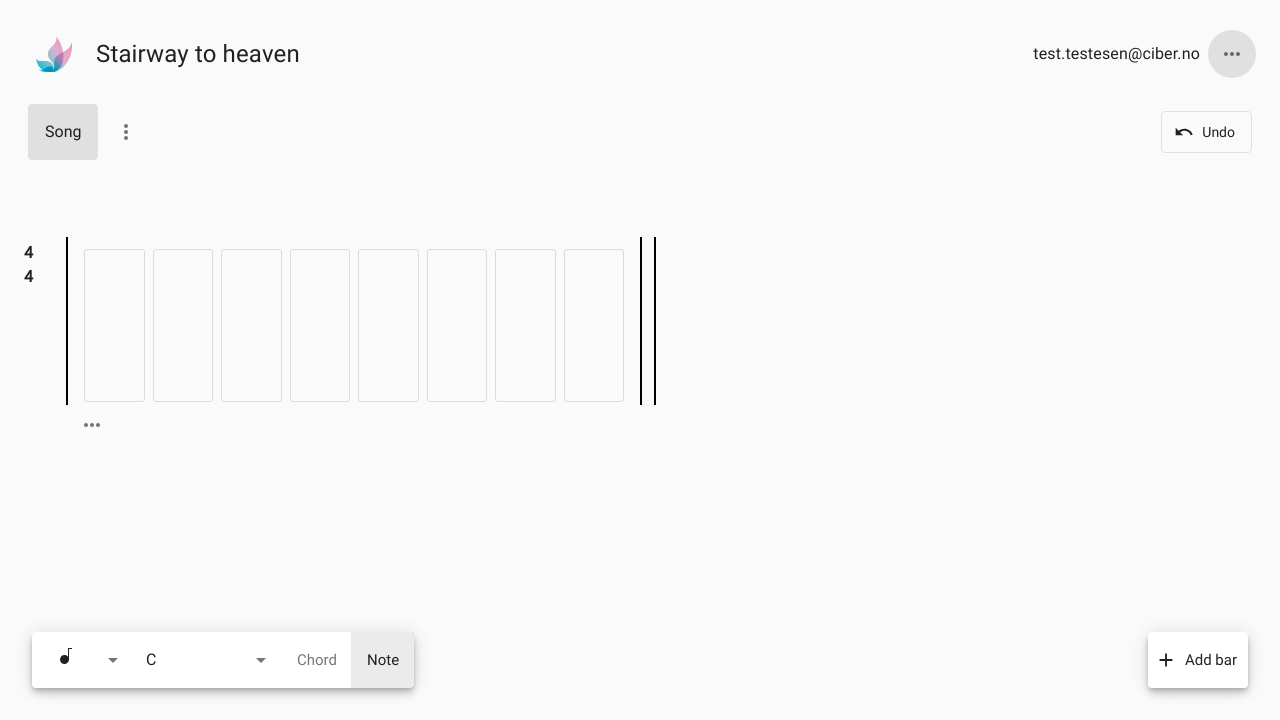
Scenario: SongView › Should add default note C
The image size is (1280, 720).
Expected: the tab "Song" is shown, [28,104,98,160]
Expected: the field named "Name of song" holds "Stairway to heaven", [96,32,993,76]
Click the 1st button named "Empty, click to create chord or note" at (114, 325), box [84,248,144,402]
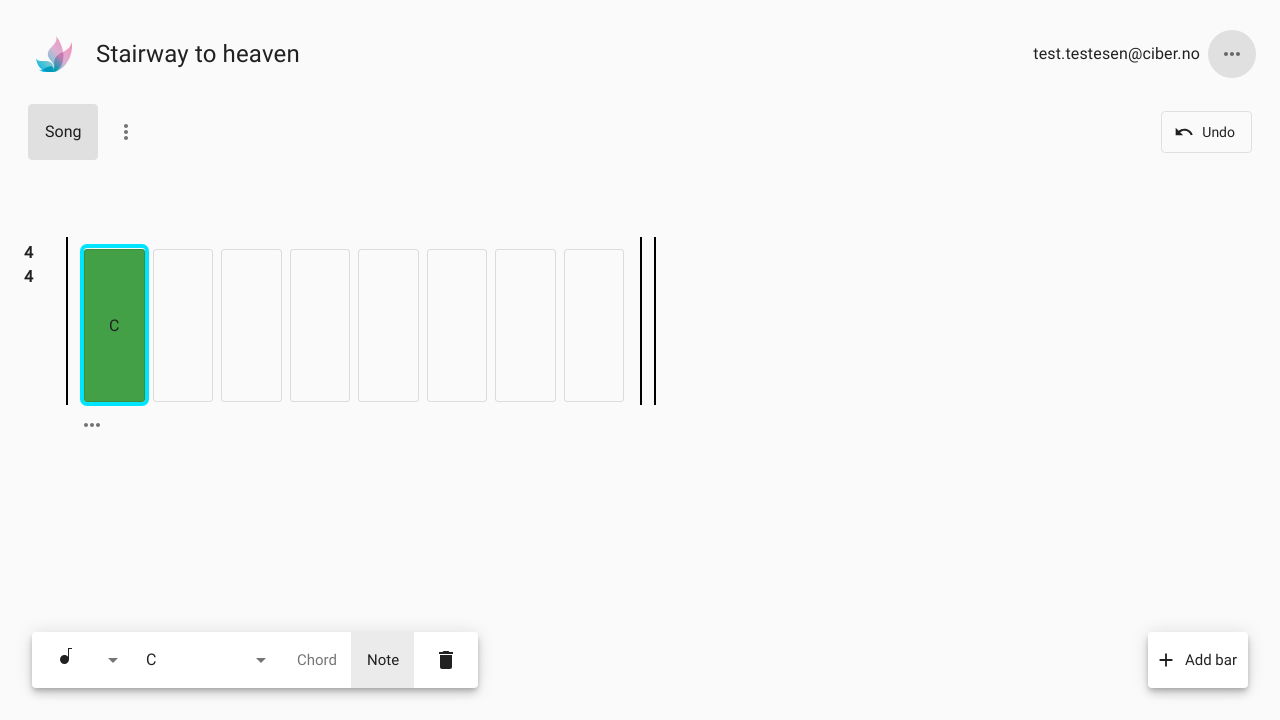
Expected: the button "C" is shown, [84,248,144,402]
